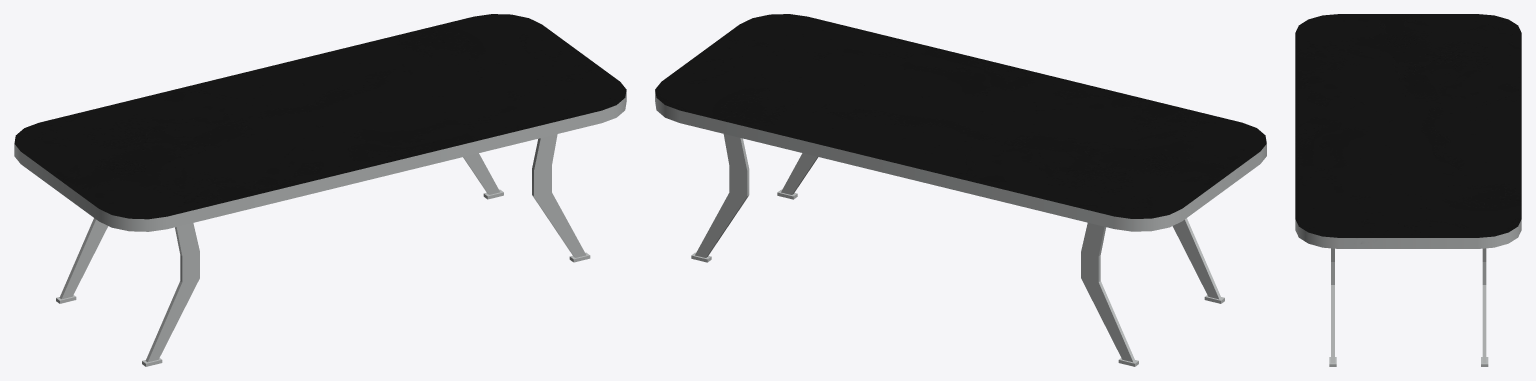
File: Mesh_LowTable.fbx
The picture shows the model from 3 angles, left to right: view 1: azimuth 30°, elevation 25°; view 2: azimuth 150°, elevation 25°; view 3: azimuth 270°, elevation 25°; orthographic projection. The views are drawn at different scales.
Parts seen in each view (by area): view 1: LowTable; view 2: LowTable; view 3: LowTable.
Part boxes in pixels (left/top/right/bottom): LowTable: left=14, top=14, right=626, bottom=366; LowTable: left=655, top=14, right=1266, bottom=366; LowTable: left=1295, top=14, right=1521, bottom=366.
Bounding box in the file's own units: 1.82 × 0.5475 × 0.7767.
